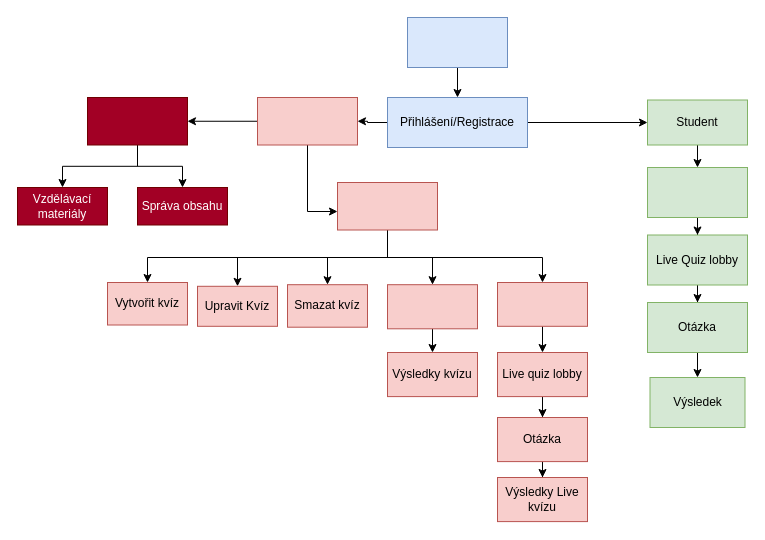
This 765x540 diagram has some shape labels left out. Each missing label, with the box of its shape:
HOMEPAGE: (406, 16, 508, 68)
Moje kvízy: (336, 182, 438, 230)
Připojit se ke kvízu: (646, 166, 748, 218)
Spustit kvíz pro sebe: (386, 284, 478, 329)
Start live: (496, 282, 588, 326)
Učitel: (256, 96, 358, 145)
Wagtail: (86, 96, 188, 145)
